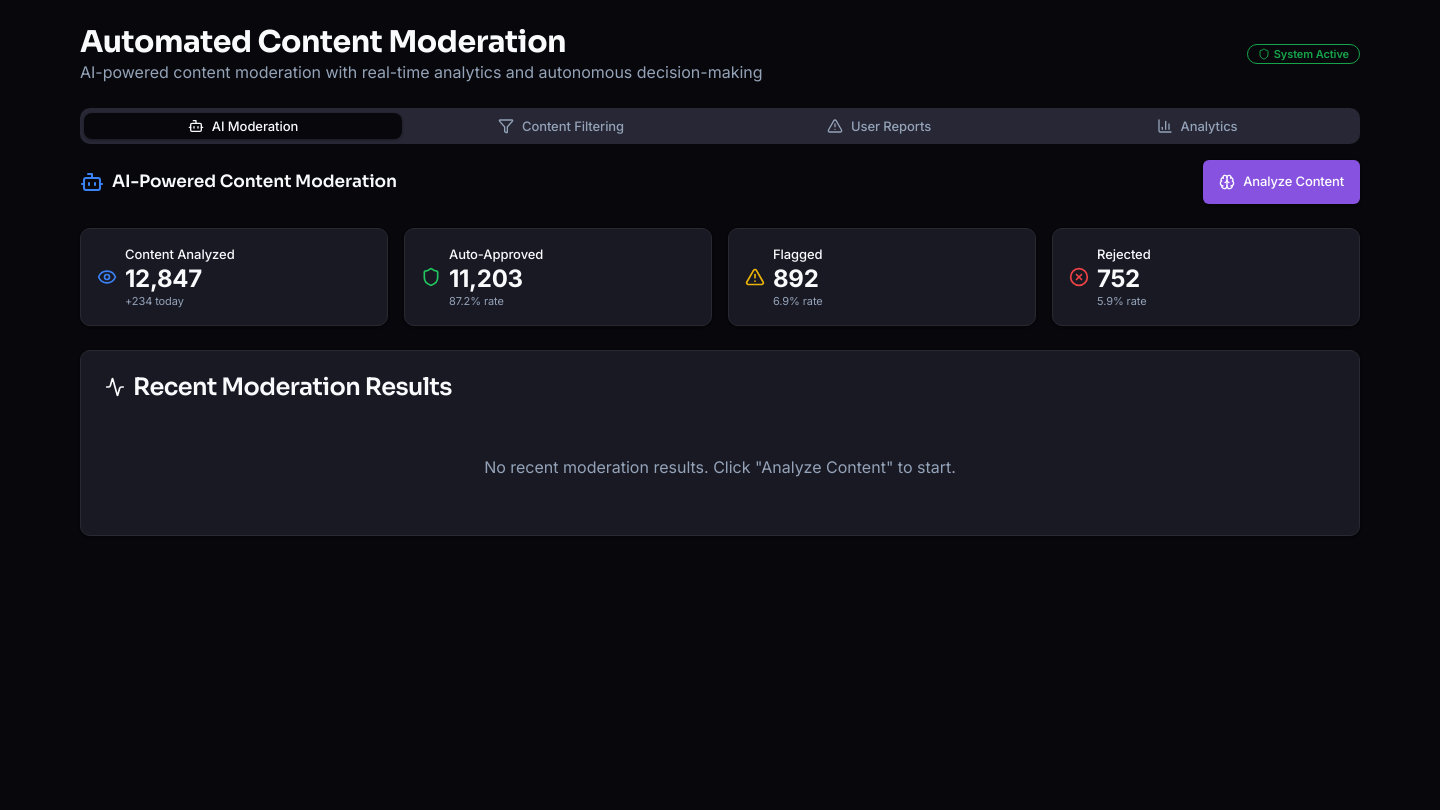
Test case: AutomatedContentModerationDashboard › US-168: Advanced Automated Content Filtering › should display content filtering panel
This screenshot has width=1440, height=810.
Click the tab "Content Filtering": coordinates (561, 126) x1=402 y1=113 x2=720 y2=139
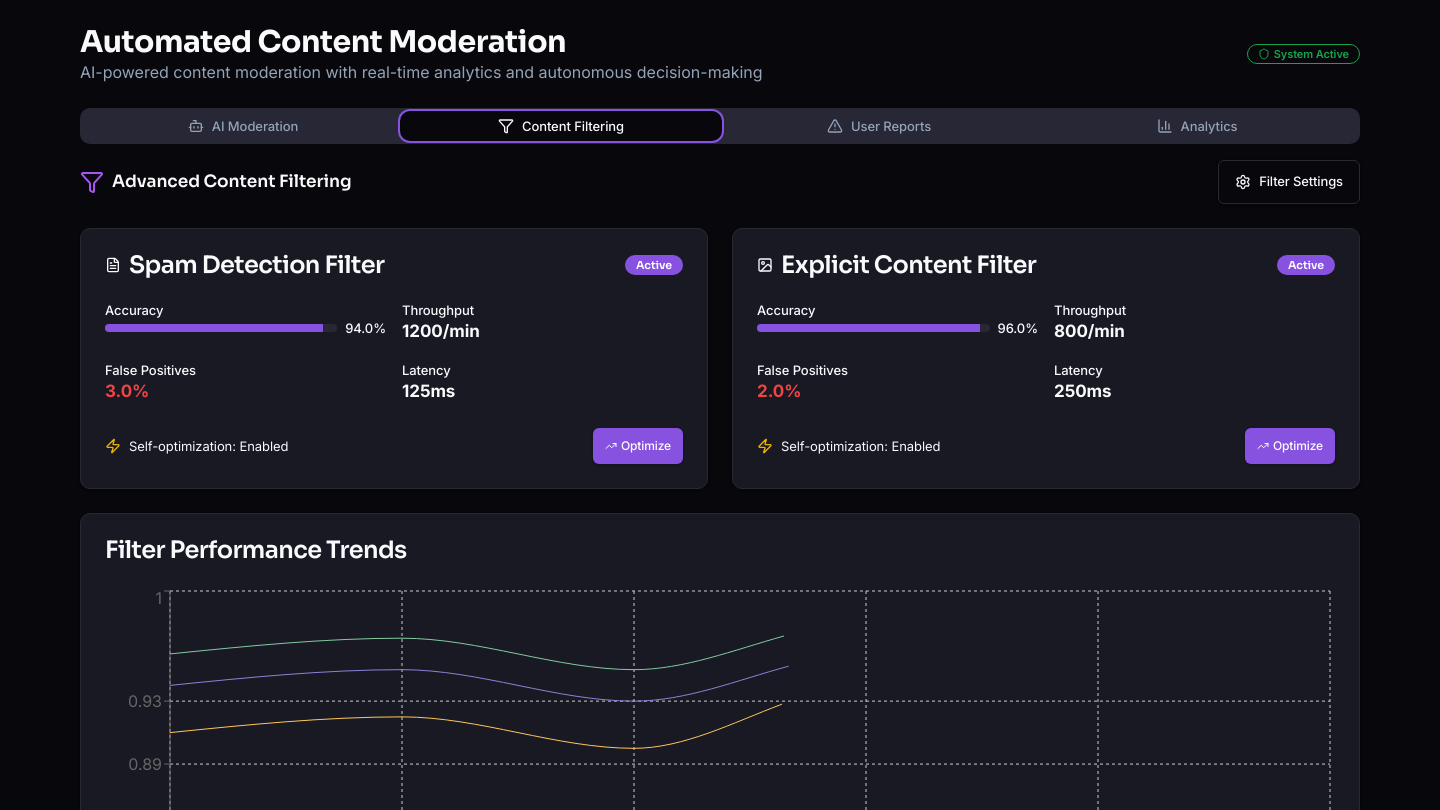
Now the heading "Advanced Content Filtering" is shown, box x1=112 y1=169 x2=352 y2=195
Now the text "Filter Settings" is shown, box x1=1259 y1=172 x2=1343 y2=192
